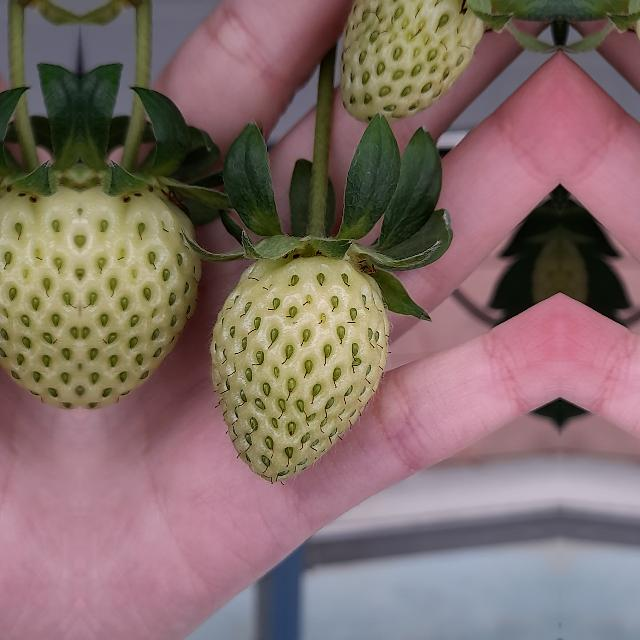Health_25: (210, 250, 390, 482), (80, 170, 204, 406), (0, 169, 80, 406), (340, 0, 486, 128)
